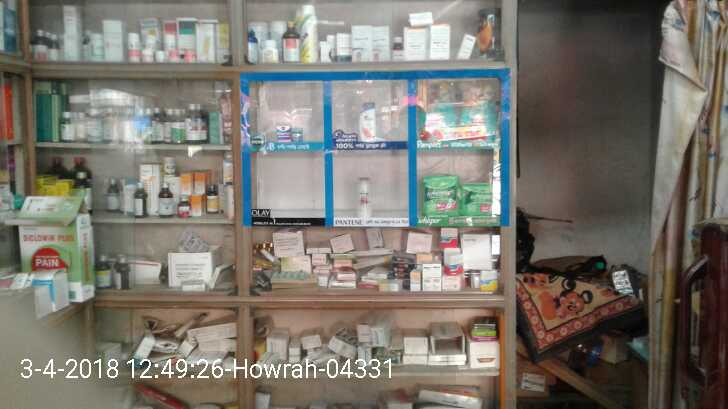vicks: (275, 125, 305, 143)
